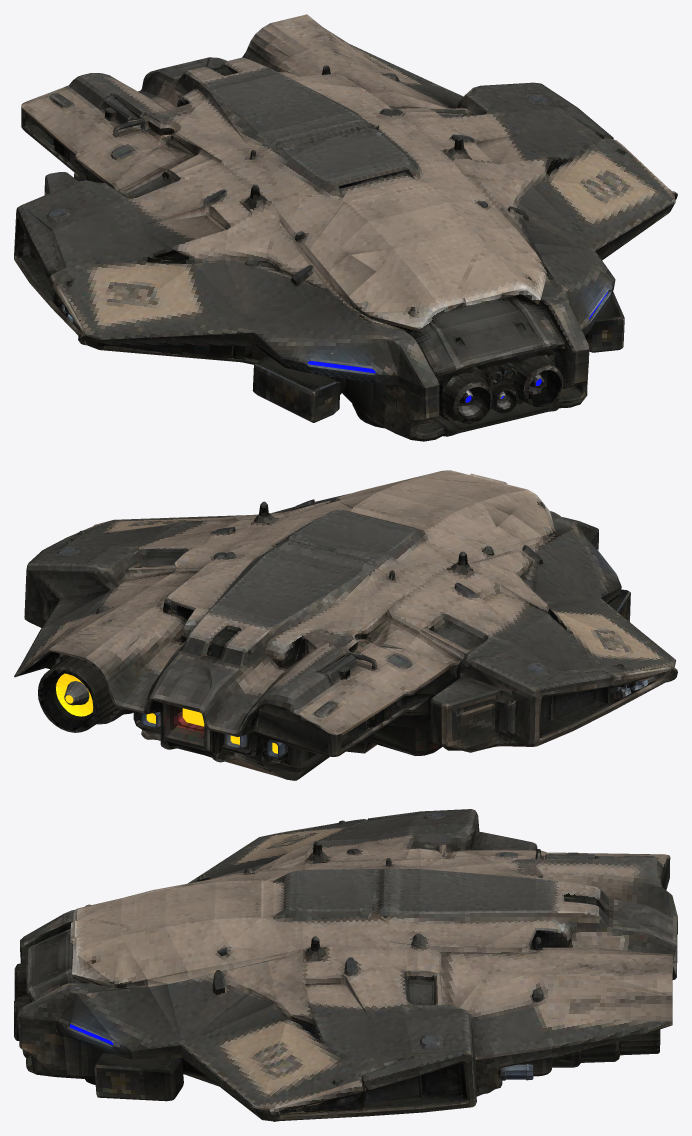
The model's file is Rebel_Drone_Body_v001.glb.
3 views of the same model, one above another, from view 1: azimuth 30°, elevation 25°; view 2: azimuth 150°, elevation 25°; view 3: azimuth 270°, elevation 25° (orthographic). The views are drawn at different scales.
Parts seen in each view (by area): view 1: Rebel_Drone; view 2: Rebel_Drone; view 3: Rebel_Drone.
Boxes of the visible parts, x1,y1,x2,y2 form: Rebel_Drone: (14,14,677,441); Rebel_Drone: (14,470,677,780); Rebel_Drone: (14,809,677,1121).
Bounding box in the file's own units: 0.9995 × 0.2739 × 0.9995.
3 materials, 1 textured.
